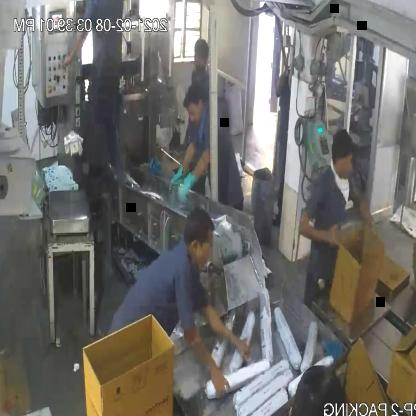no_glove: (180, 312, 234, 404), (288, 206, 354, 258), (201, 293, 253, 348), (343, 187, 373, 237)
